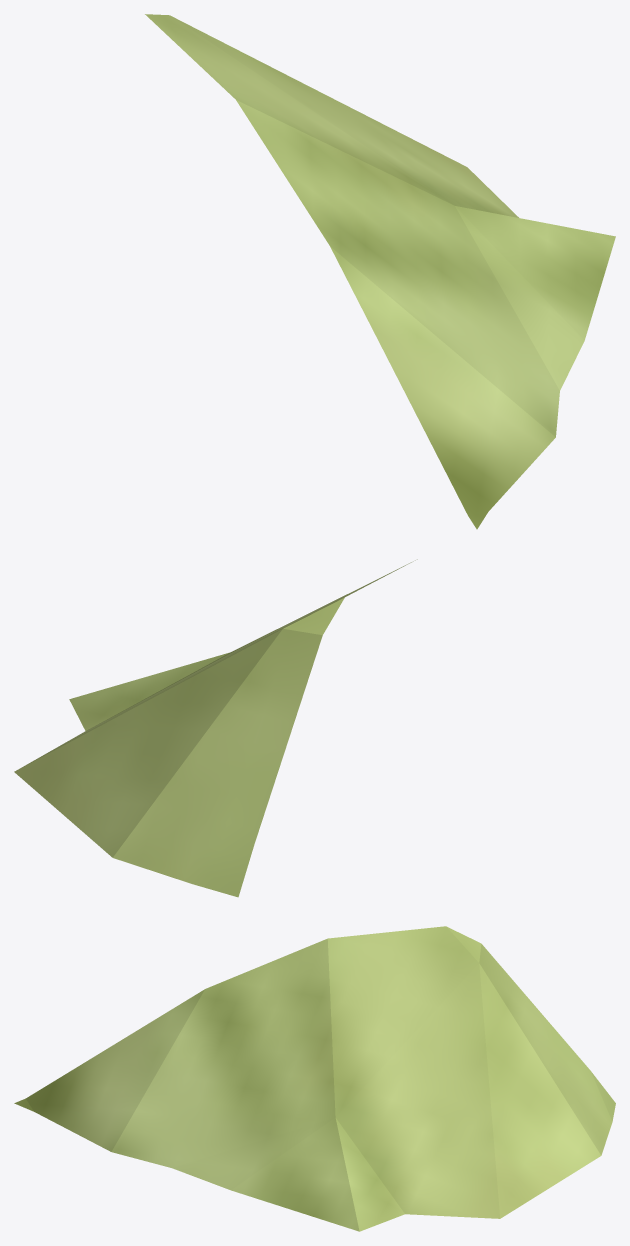
The picture shows the model from 3 angles, top to bottom: view 1: azimuth 30°, elevation 25°; view 2: azimuth 150°, elevation 25°; view 3: azimuth 270°, elevation 25°; orthographic projection. The views are drawn at different scales.
Bounding box in the file's own units: 0.3067 × 0.1973 × 0.6077.
Materials: 1 (1 with a texture image).
